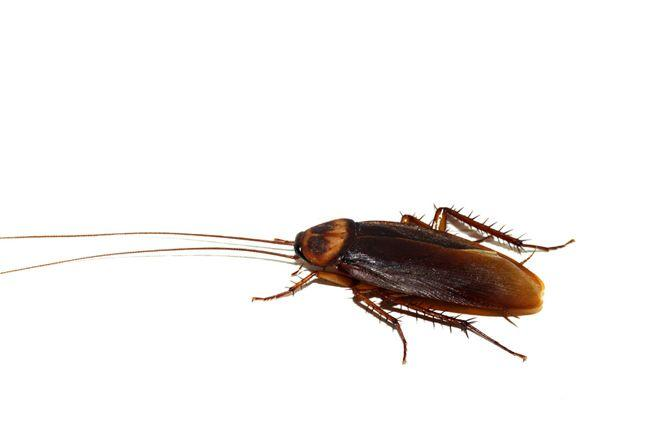cockroach: (286, 206, 551, 322)
